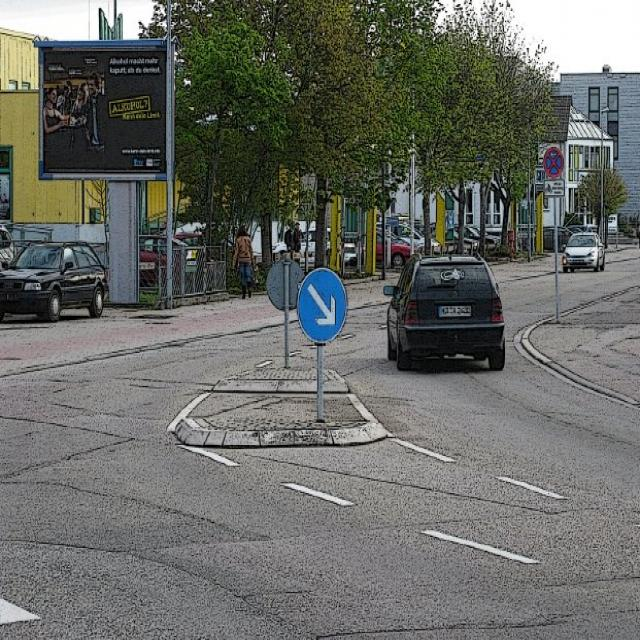Werbetafel frei: (35, 34, 172, 187)
